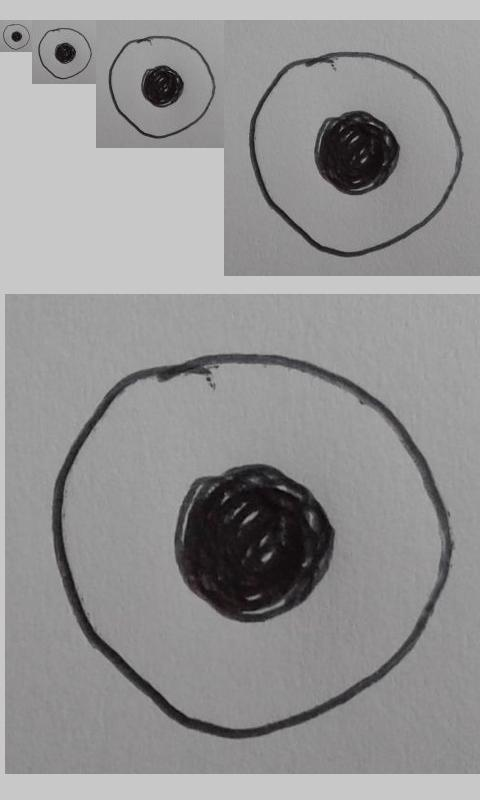radio_button: (52, 352, 454, 740), (247, 50, 464, 259), (108, 35, 217, 140), (37, 27, 92, 80), (2, 23, 31, 51)
